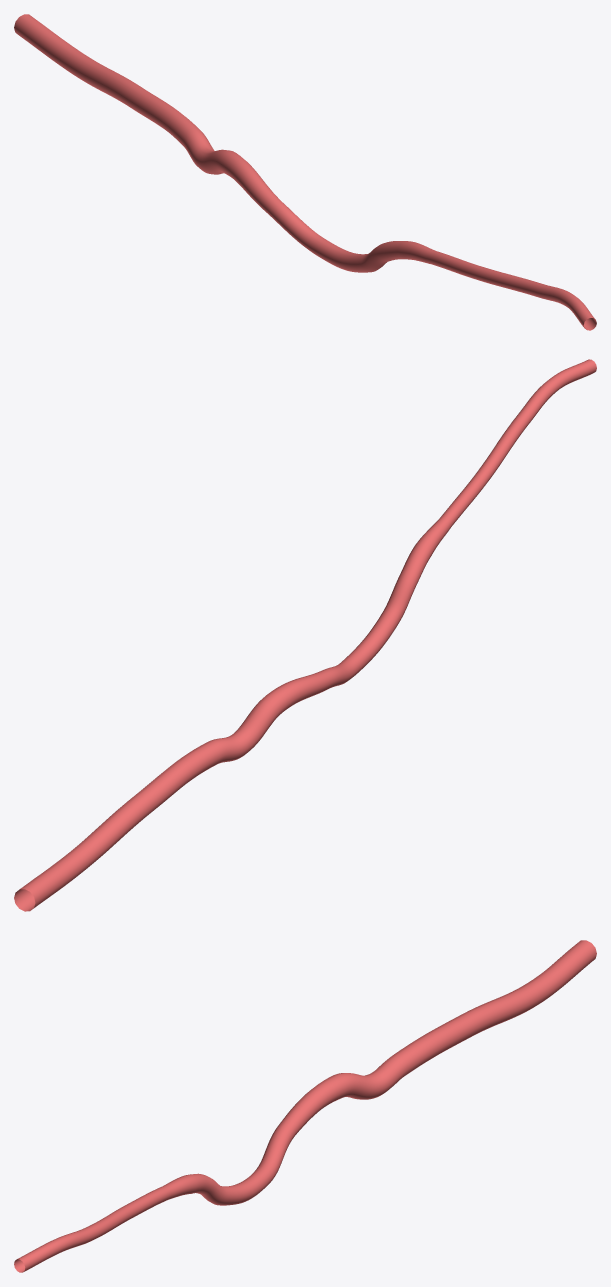
Rendered from Supratrochlear_artery.r.001_BezierCurve.093.glb.
The picture shows the model from 3 angles, top to bottom: view 1: azimuth 30°, elevation 25°; view 2: azimuth 150°, elevation 25°; view 3: azimuth 330°, elevation 25°; orthographic projection. The views are drawn at different scales.
Parts seen in each view (by area): view 1: Supratrochlear_artery.r.001_BezierCurve.093; view 2: Supratrochlear_artery.r.001_BezierCurve.093; view 3: Supratrochlear_artery.r.001_BezierCurve.093.
Boxes of the visible parts, <box> form: Supratrochlear_artery.r.001_BezierCurve.093: <box>14,14,596,330</box>; Supratrochlear_artery.r.001_BezierCurve.093: <box>14,359,596,911</box>; Supratrochlear_artery.r.001_BezierCurve.093: <box>14,940,596,1272</box>.
Bounding box in the file's own units: 0.00262 × 0.0059 × 0.0472.
